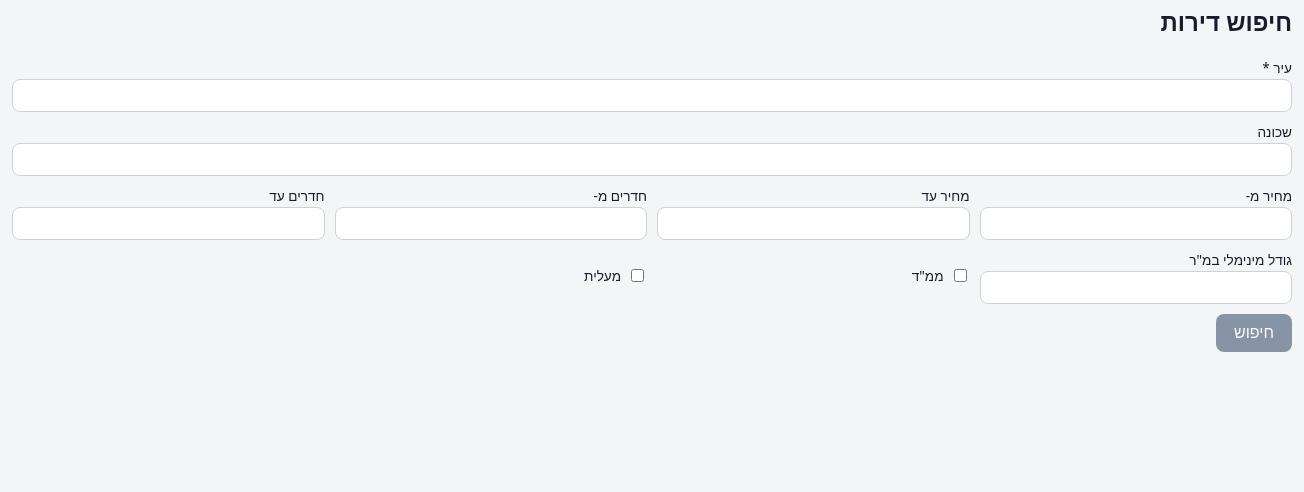
Test: renders result cards
Type "חיפה" into the field labelled "עיר *" at (652, 95), box [12,79,1292,112]
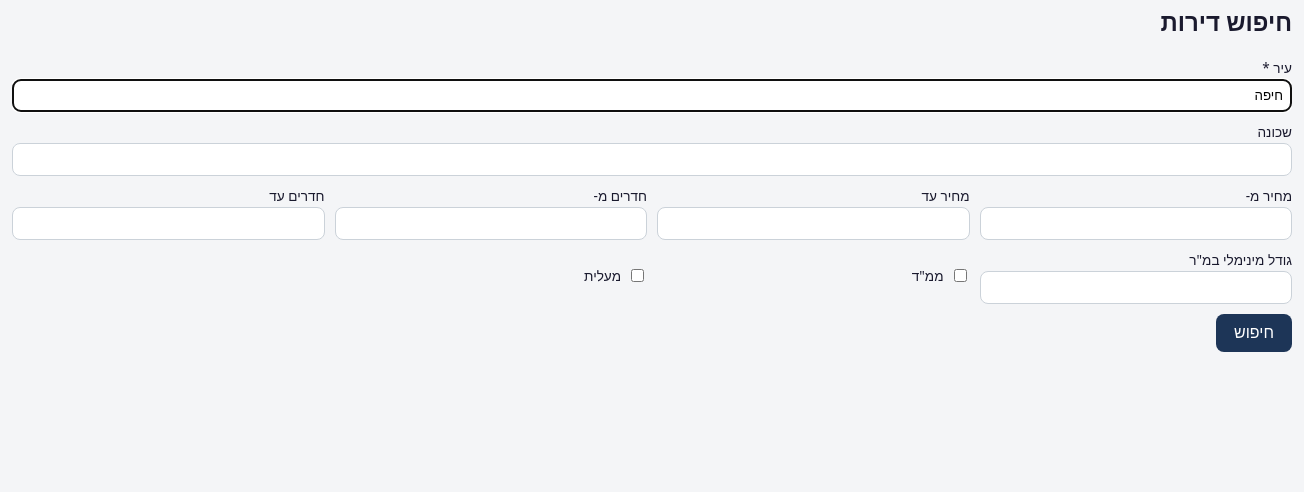
Click the button "חיפוש" at (1254, 333), box [1216,314,1292,352]
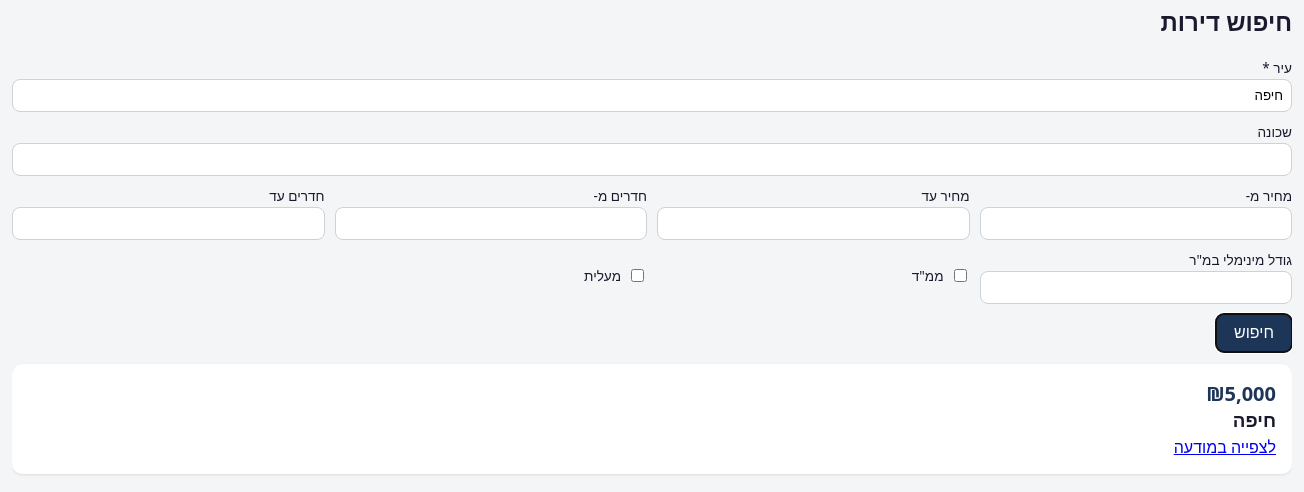
Result: the text "₪5,000" is shown at [1206,380,1276,407]
